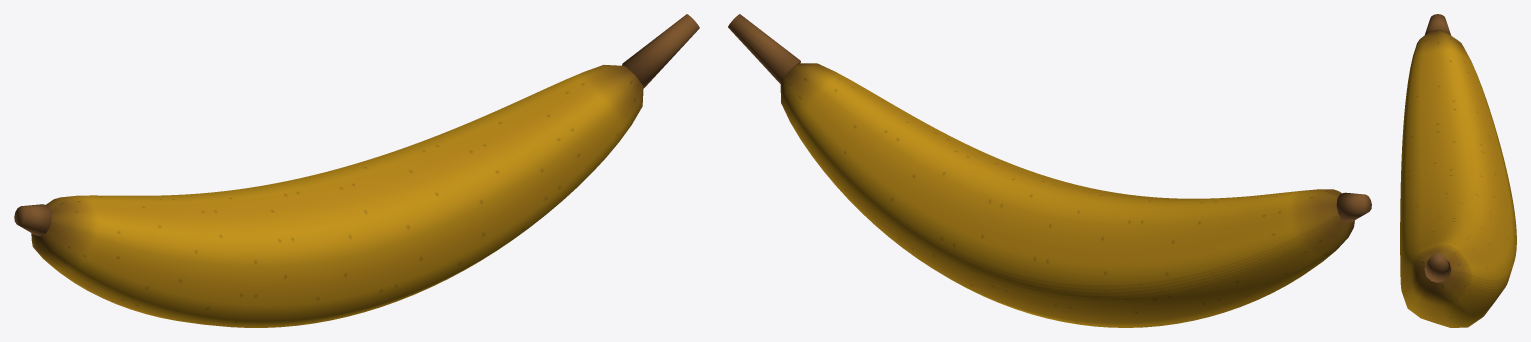
Rendered from easter_banana.glb.
3 views of the same model, side by side, from view 1: azimuth 30°, elevation 25°; view 2: azimuth 150°, elevation 25°; view 3: azimuth 270°, elevation 25° (orthographic). The views are drawn at different scales.
Visible parts, largest first — view 1: BananaPeel, Stalk, Blossom tip; view 2: BananaPeel, Stalk, Blossom tip; view 3: BananaPeel, Stalk, Blossom tip.
Part boxes in pixels (x1=…): BananaPeel: x1=31, y1=65, x2=643, y2=327; Stalk: x1=622, y1=14, x2=699, y2=87; Blossom tip: x1=14, y1=204, x2=51, y2=236; BananaPeel: x1=780, y1=63, x2=1354, y2=327; Stalk: x1=728, y1=14, x2=800, y2=83; Blossom tip: x1=1336, y1=192, x2=1371, y2=222; BananaPeel: x1=1400, y1=29, x2=1516, y2=327; Stalk: x1=1424, y1=253, x2=1451, y2=282; Blossom tip: x1=1425, y1=14, x2=1450, y2=35.
Bounding box in the file's own units: 0.2833 × 0.0879 × 0.052.
Materials: 2 (1 with a texture image).
